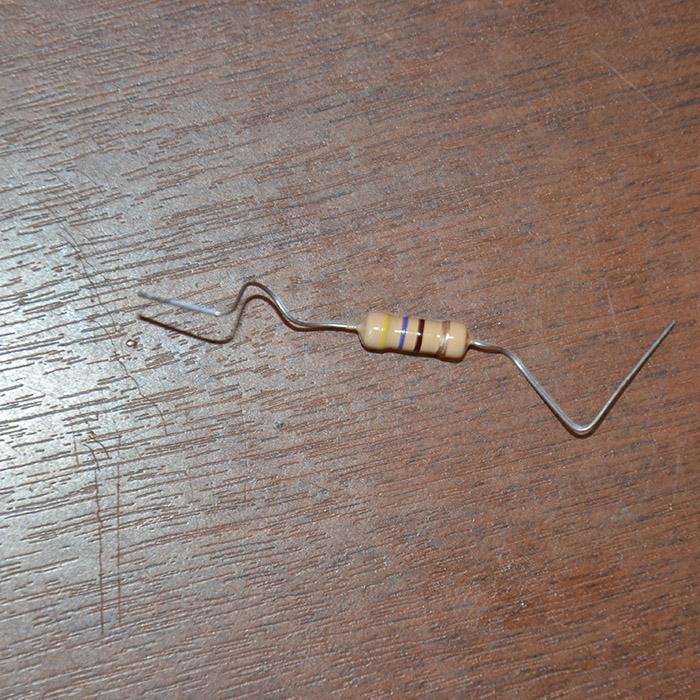resistor: (356, 312, 468, 360)
